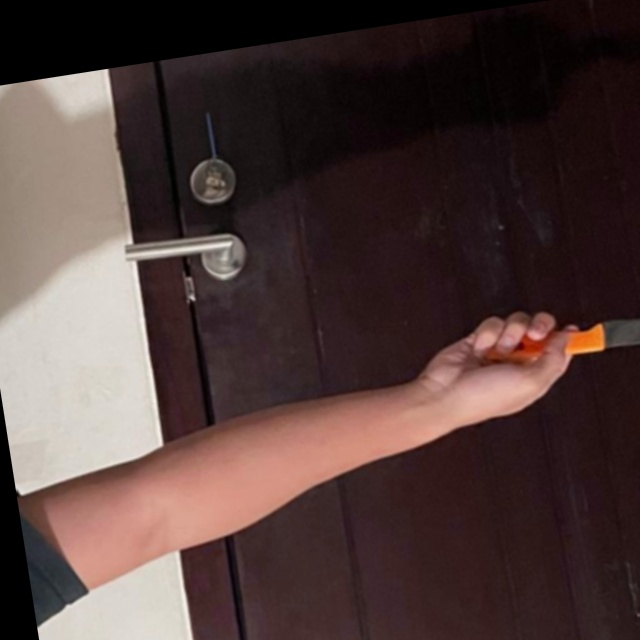Sharp-Object: (468, 304, 640, 376)
